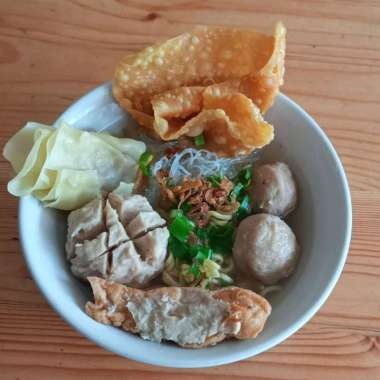bakso_malang: (3, 20, 301, 349)
